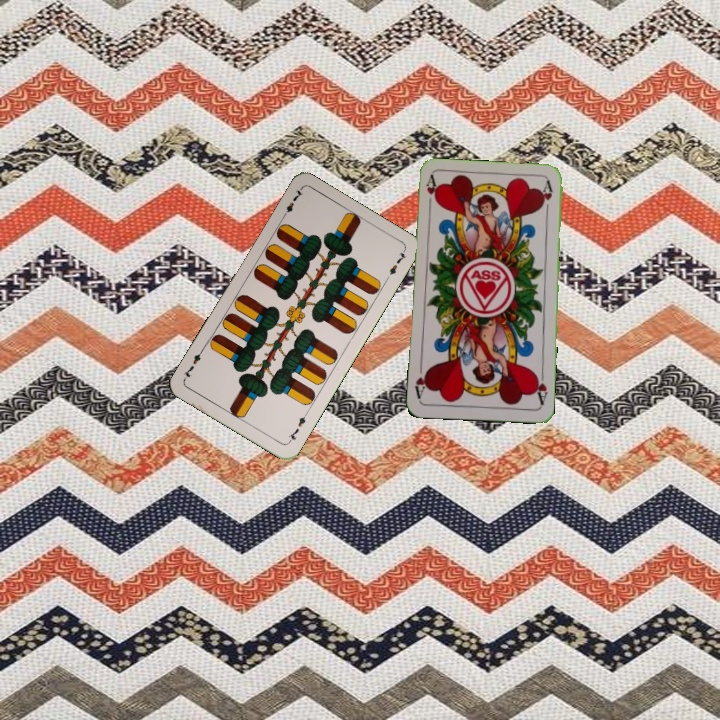E7: (278, 185, 306, 222), (284, 409, 311, 446)
HA: (531, 367, 550, 407), (422, 173, 439, 213)
